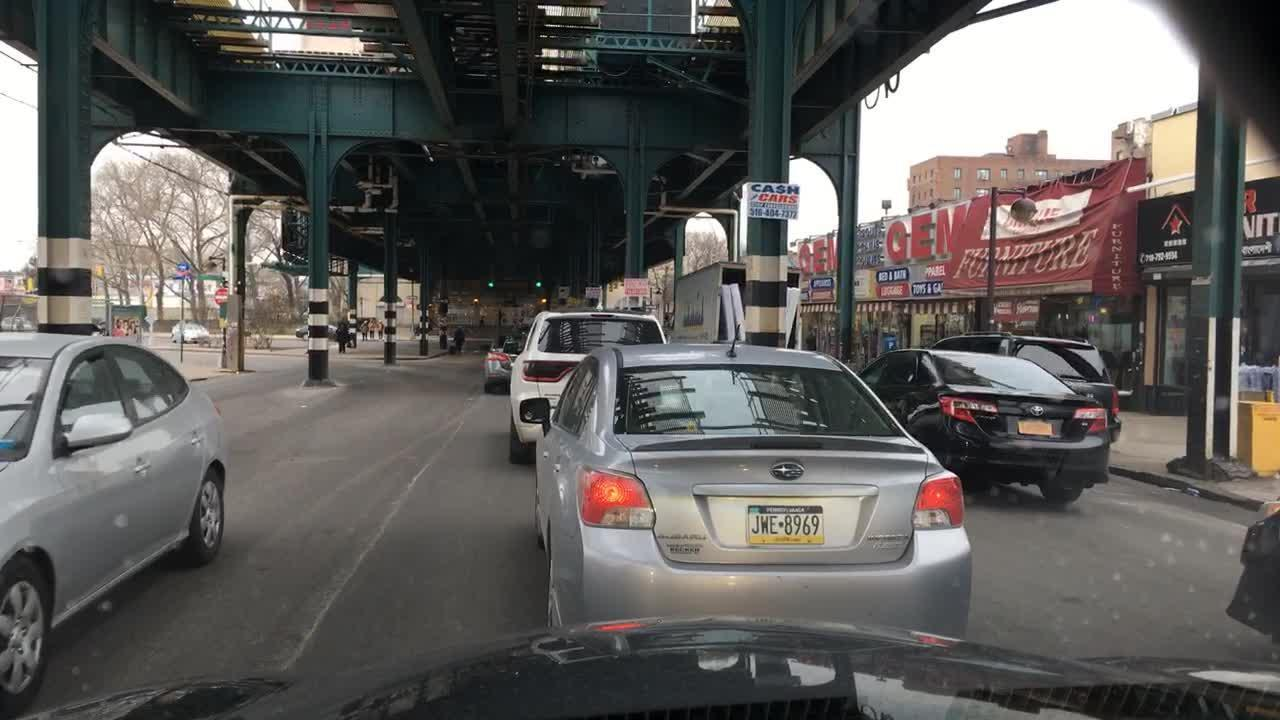Toyota: (1028, 402, 1047, 420)
subaru: (765, 453, 813, 483)
